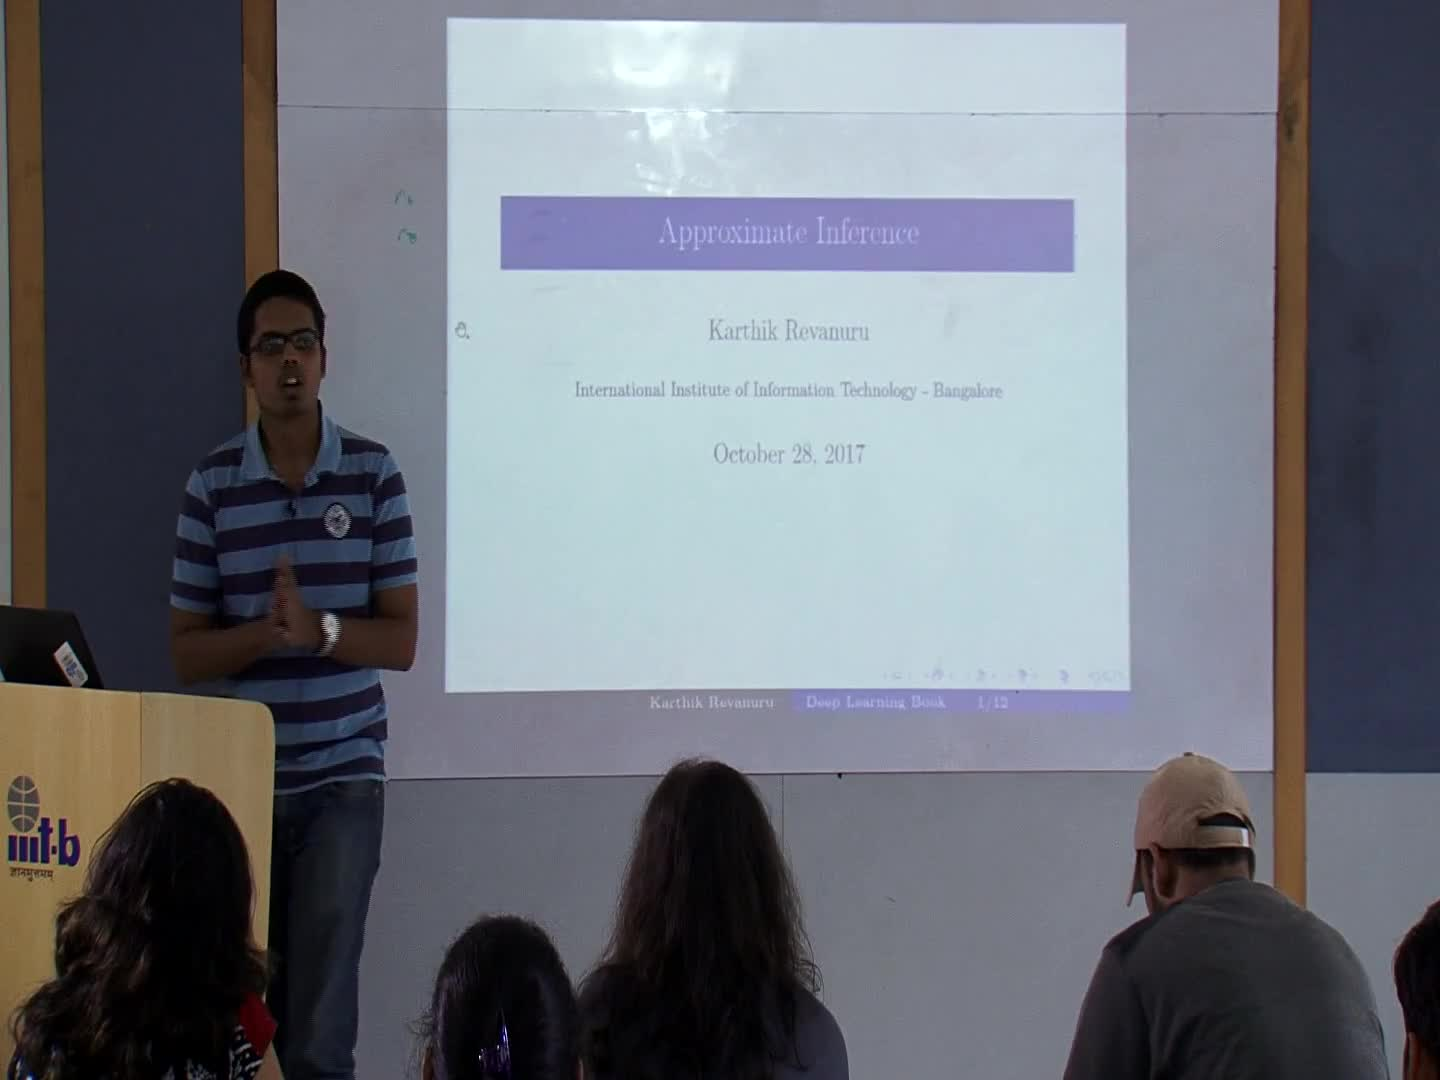slide: (444, 19, 1126, 712)
